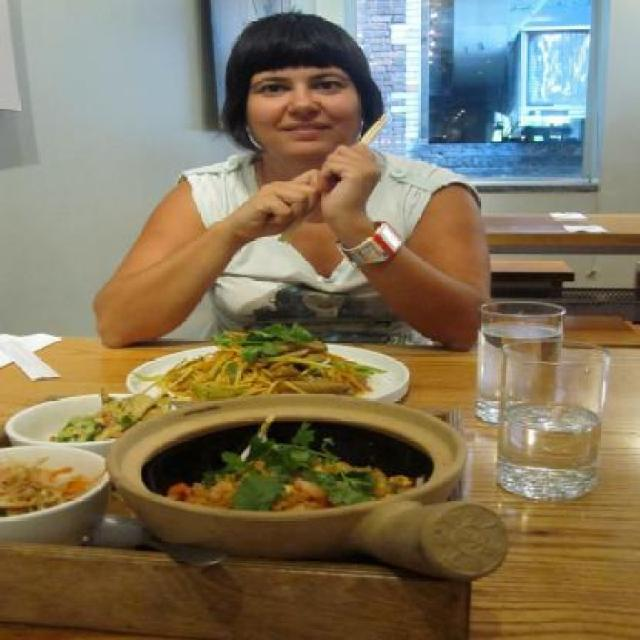Person: (91, 5, 492, 349)
